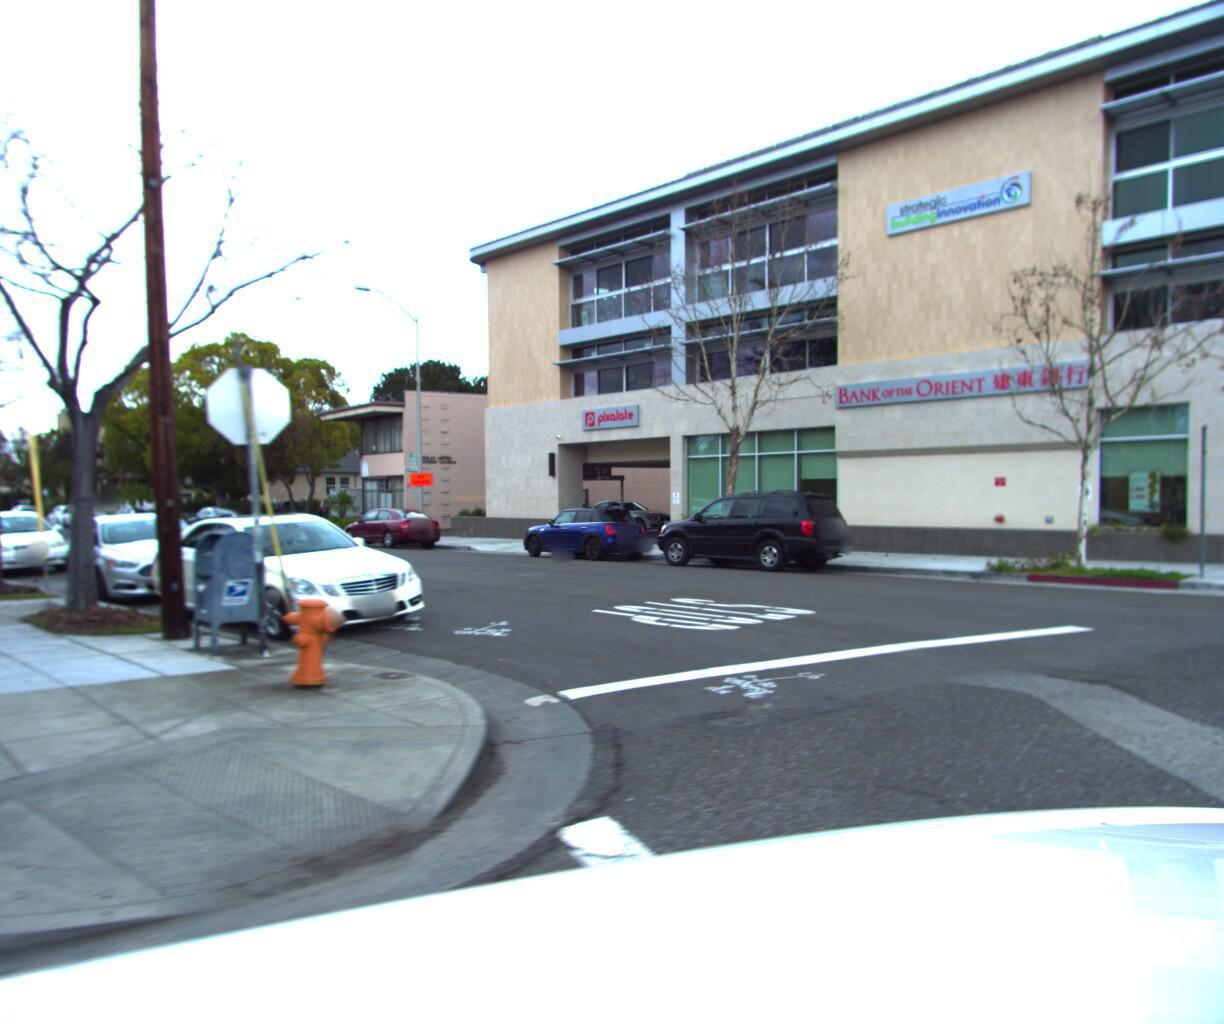car: (128, 508, 451, 649), (47, 507, 241, 617), (644, 484, 865, 574), (511, 503, 658, 567), (325, 505, 449, 553), (580, 497, 681, 535), (176, 505, 254, 540), (104, 506, 164, 535), (58, 507, 109, 533), (2, 508, 42, 527)
